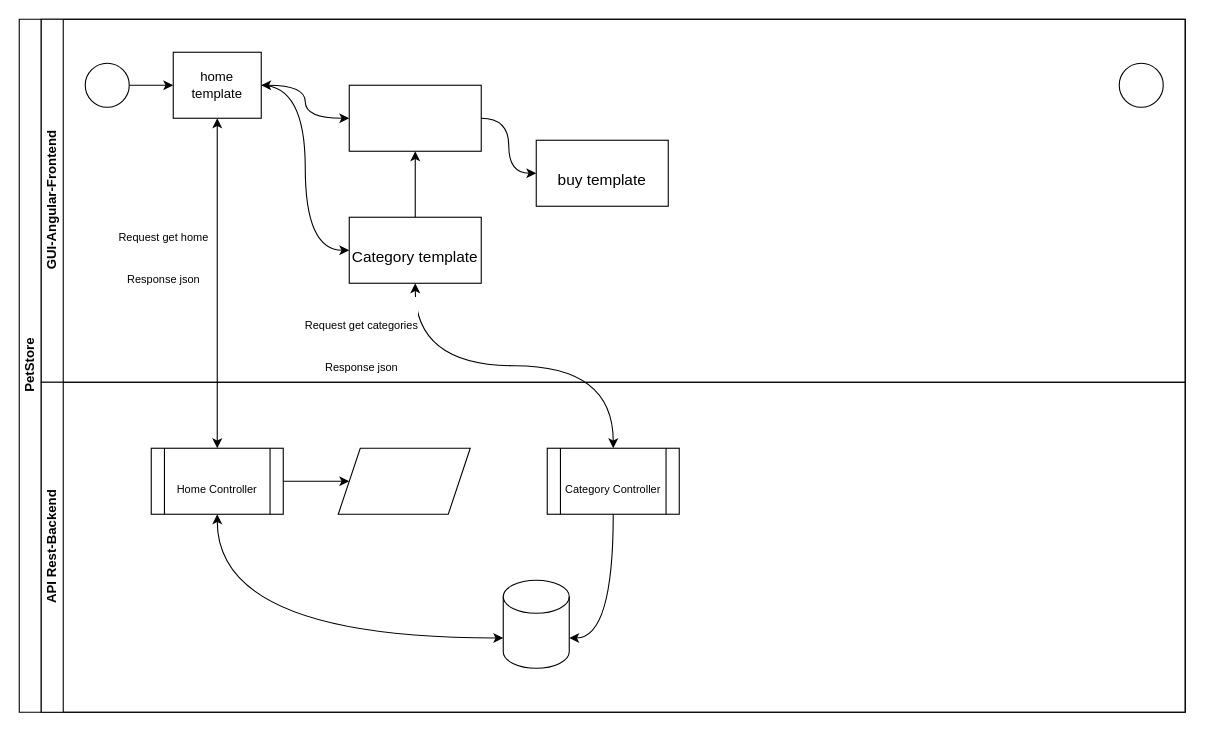
This 1205x732 diagram has some shape labels left out. Here are the shapes that lost their labels. From the top down, the centre of each, then its label:
At (106,84): "Start".
At (1140,84): "end".
At (414,117): "detail template".
At (403,480): "Json".
